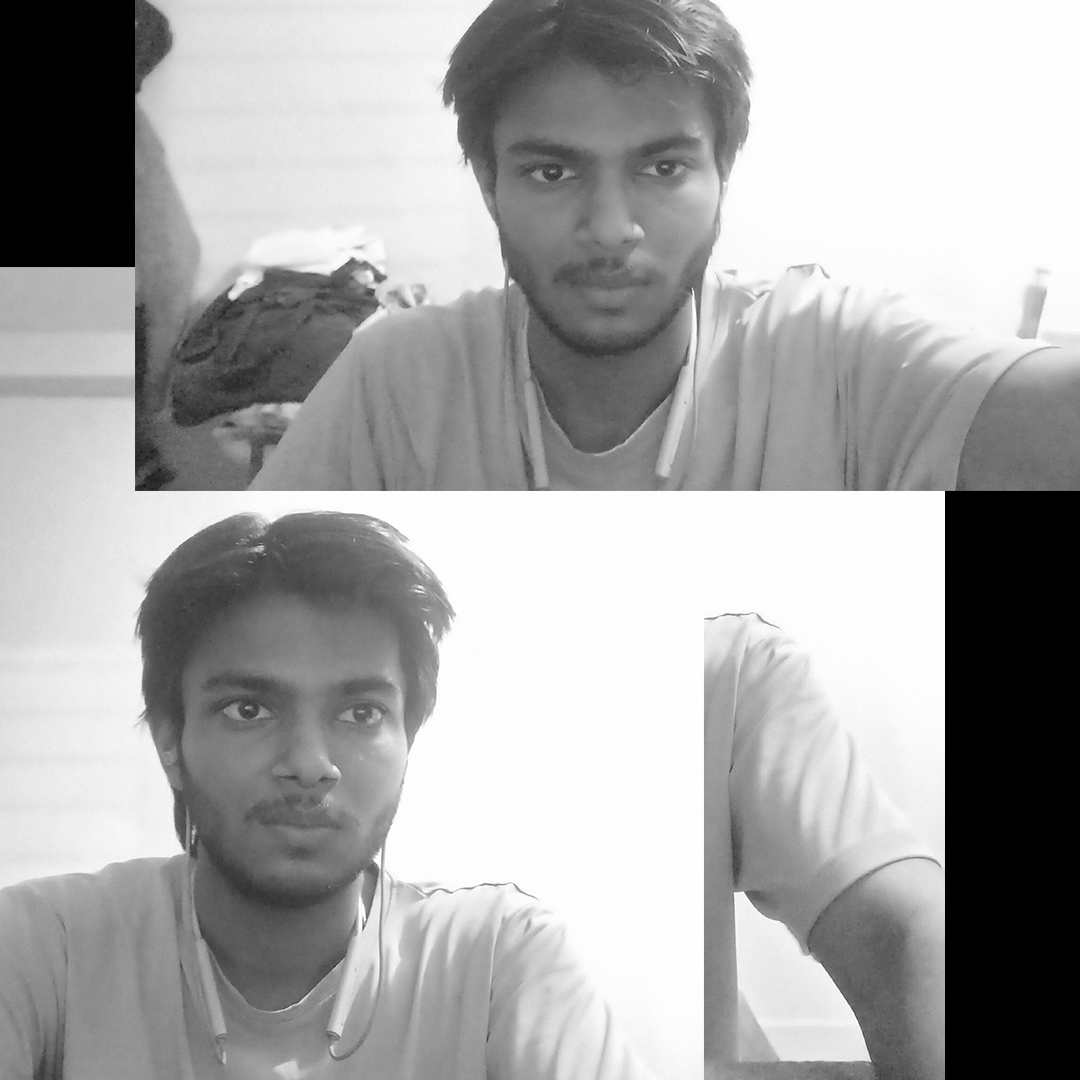Focused: (58, 522, 584, 1008), (357, 23, 851, 394)
